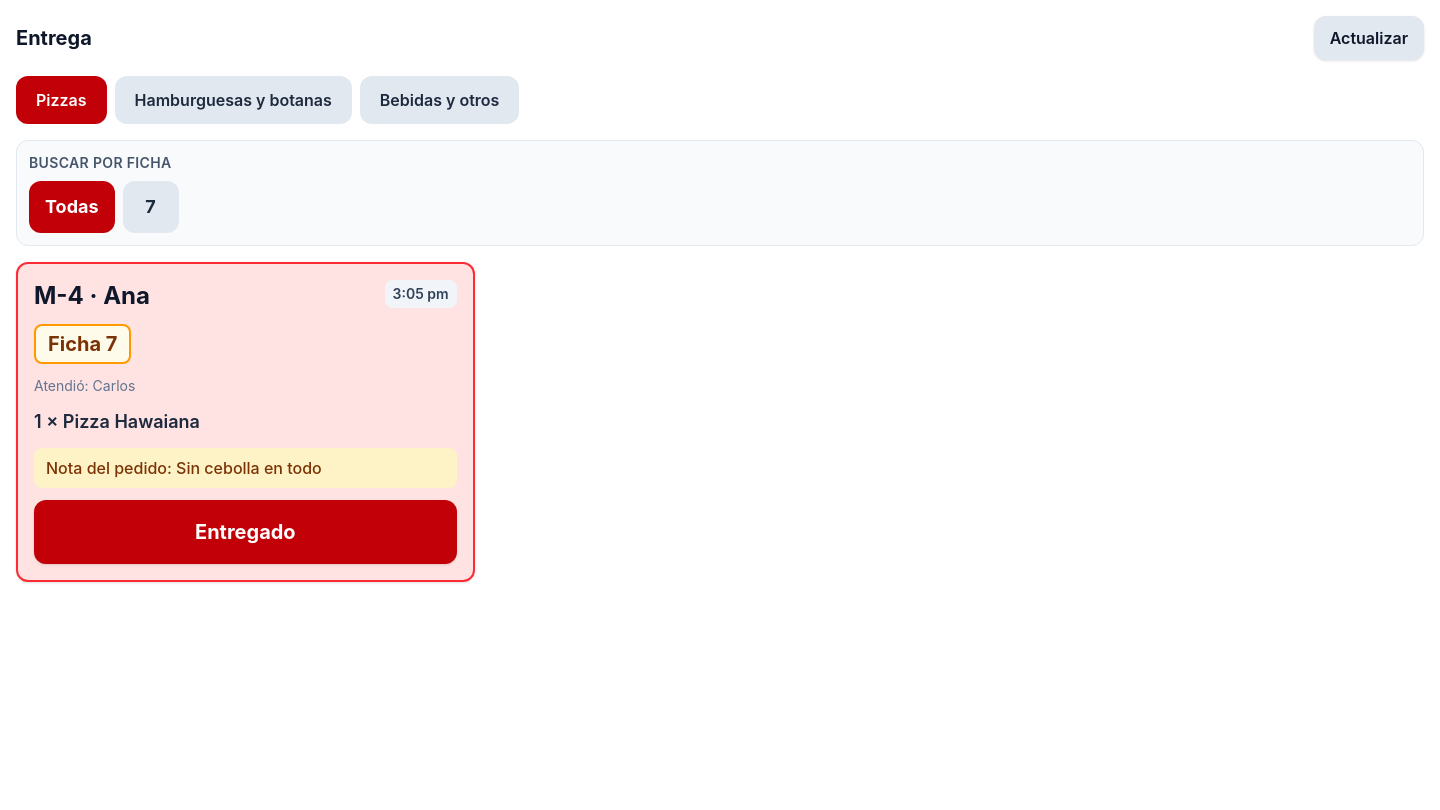
Test: DeliveryBoard › shows one section at a time when sectioned, starting with Pizzas
The width and height of the screenshot is (1440, 810).
Expected: the text "1 × Pizza Hawaiana" is shown, [34,411,200,432]
Expected: the text "2 × Hamburguesa" is not shown
Click the button "Hamburguesas y botanas" at [233, 100], box [115,76,352,124]
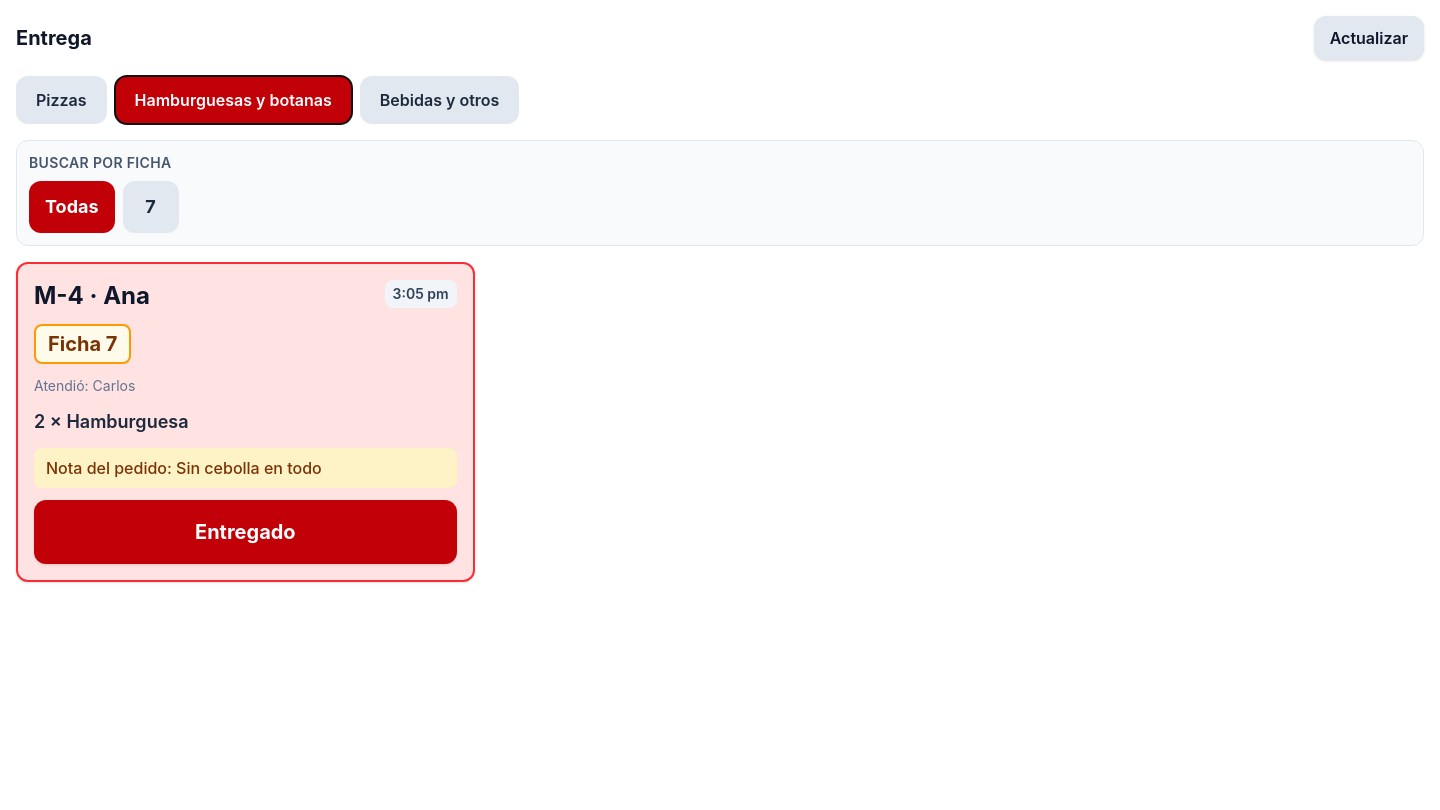
Expected: the text "2 × Hamburguesa" is shown, [34,411,188,432]
Expected: the text "1 × Pizza Hawaiana" is gone
Click the button "Bebidas y otros" at [440, 100], box [360,76,519,124]
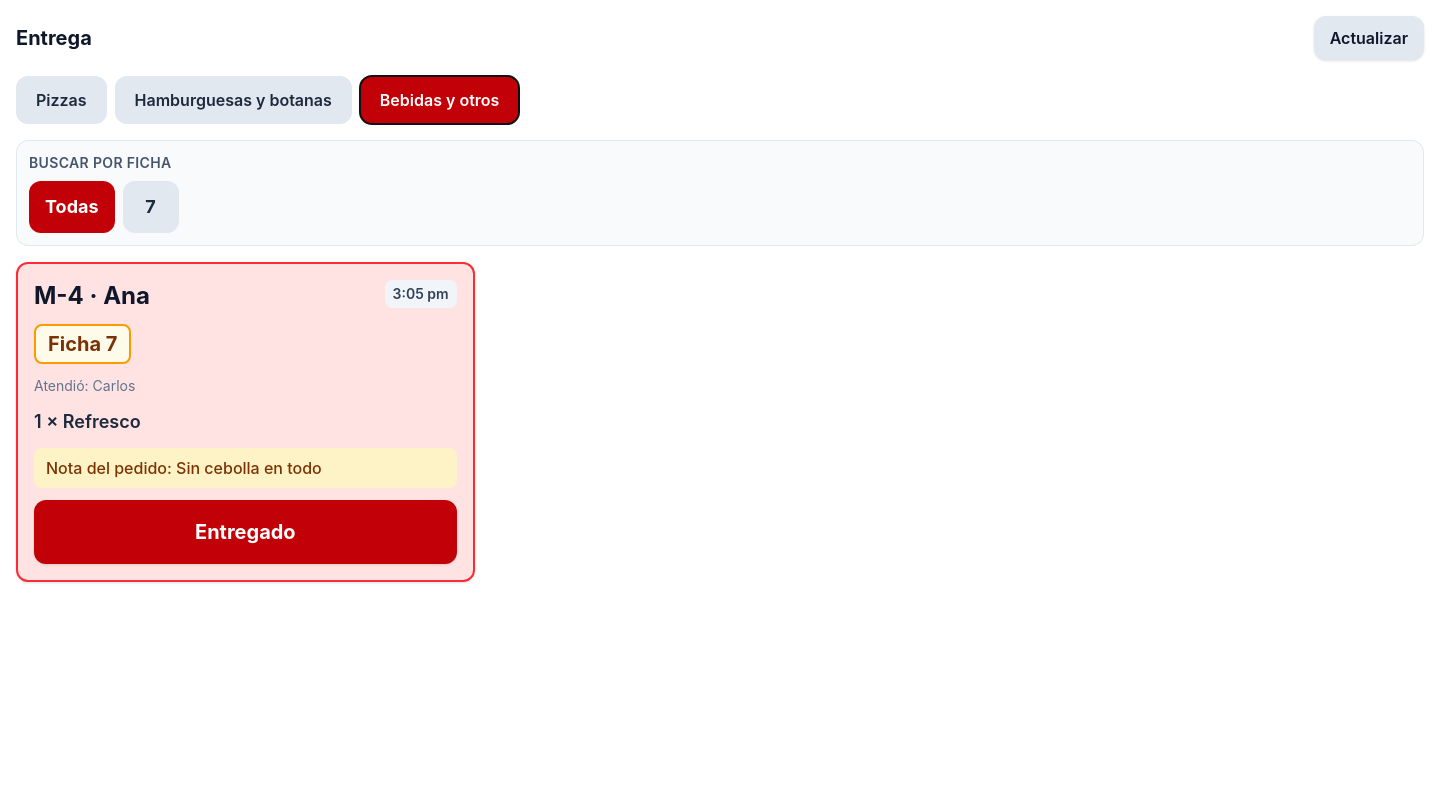
Expected: the text "1 × Refresco" is shown, [34,411,141,432]
Expected: the text "2 × Hamburguesa" is gone
